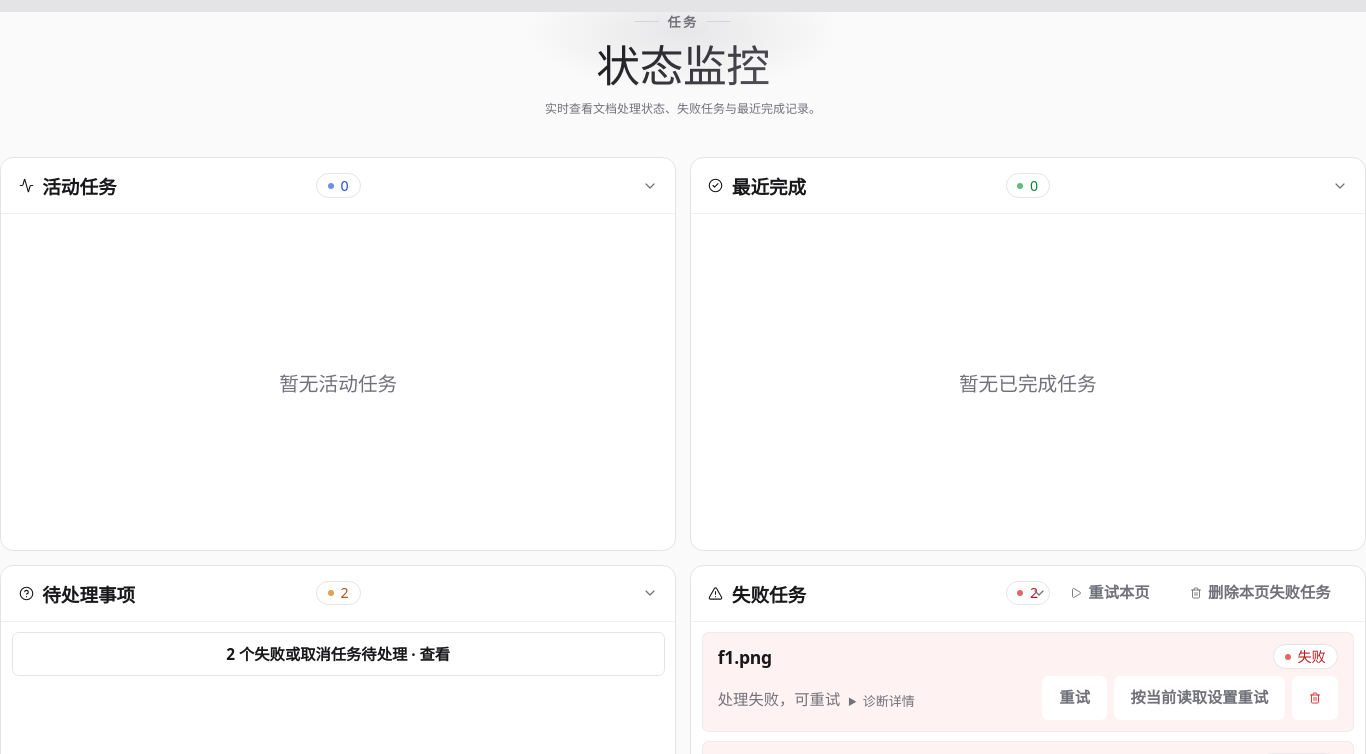
Test: TaskQueuePage › batch retry submits only failed tasks
This screenshot has width=1366, height=754.
Expected: the text "f1.png" is shown, [718,645,772,669]
Click the button "重试本页".
click(1110, 593)  # box [1053,571,1166,615]
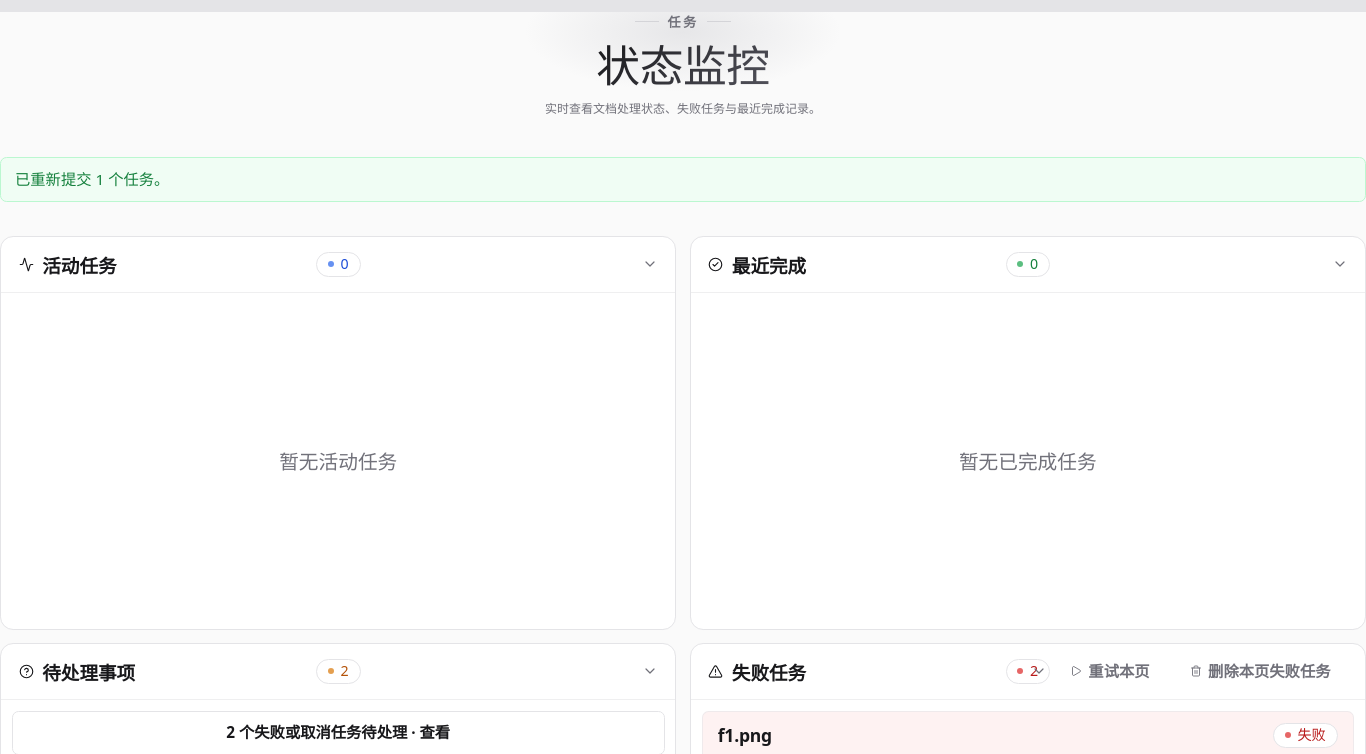
Expected: the text "已重新提交 1 个任务。" is shown, [0,157,1365,202]
